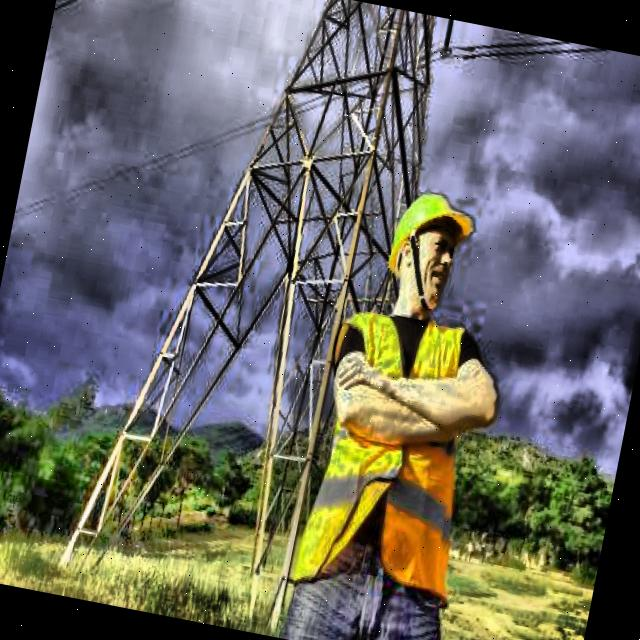helmet: (372, 177, 481, 321)
